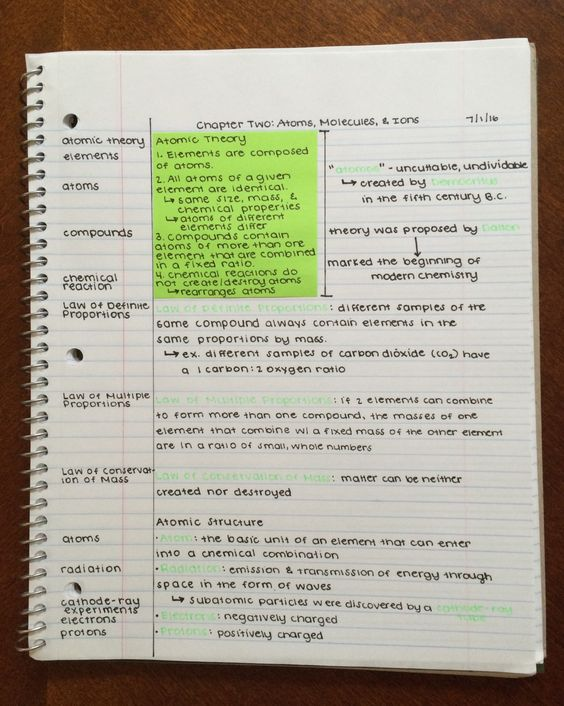page: (52, 54, 530, 657)
